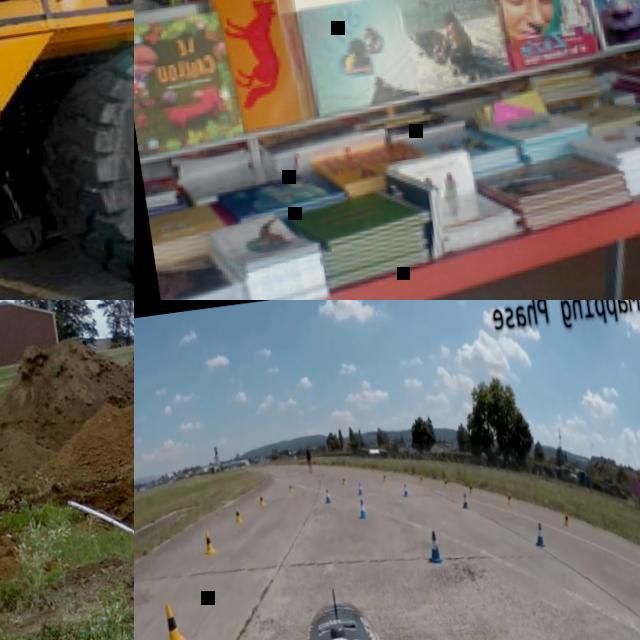NO-Safety Vest: (306, 451, 311, 462)
Person: (304, 446, 314, 473)
Safety Cone: (158, 602, 189, 640), (423, 531, 444, 567), (531, 520, 549, 552), (202, 530, 217, 555), (356, 496, 368, 522), (459, 489, 469, 510), (233, 505, 243, 525), (561, 508, 570, 529), (323, 488, 332, 507), (504, 492, 514, 509), (401, 482, 409, 499), (257, 492, 265, 508), (356, 480, 364, 496), (467, 480, 475, 495), (442, 477, 449, 491), (418, 472, 424, 485), (381, 471, 387, 483), (341, 475, 347, 486), (288, 483, 293, 494)
vehicle: (0, 0, 134, 300), (176, 560, 549, 640)
